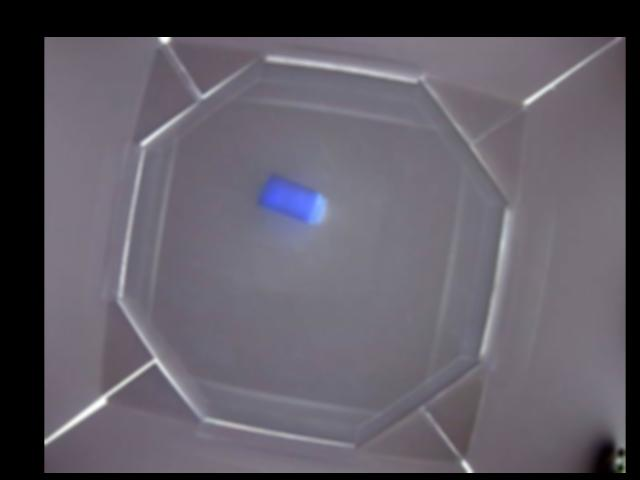Potato: (258, 174, 325, 223)
